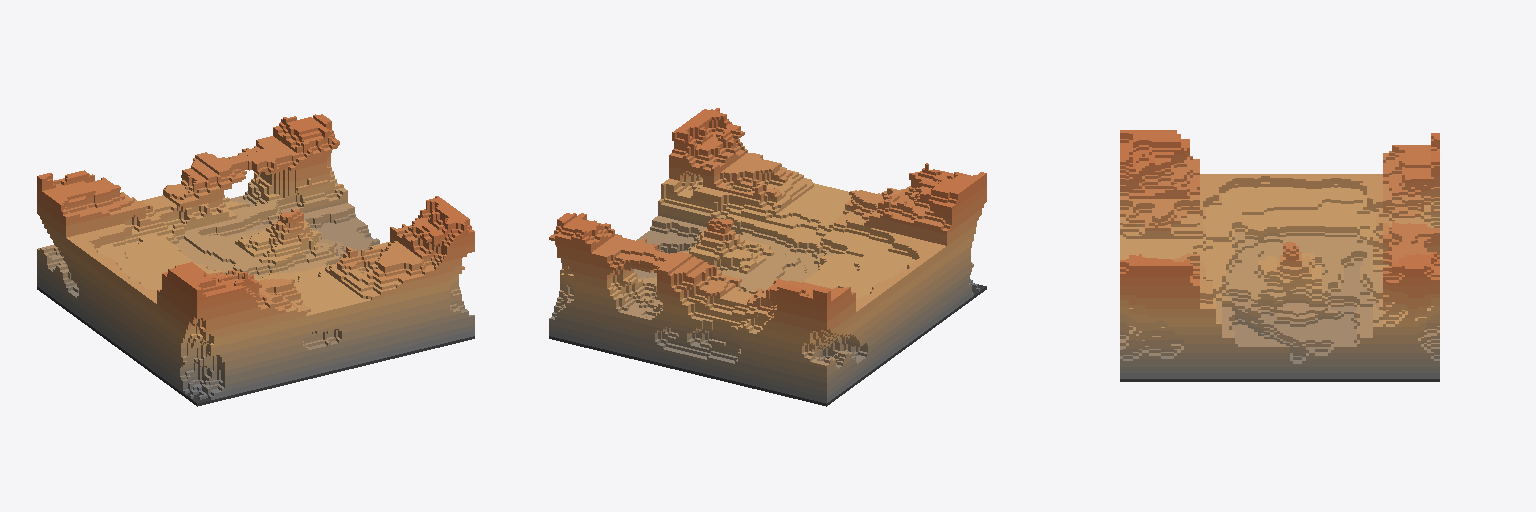
3 renders of one model, left to right at view 1: azimuth 30°, elevation 25°; view 2: azimuth 150°, elevation 25°; view 3: azimuth 270°, elevation 25°, orthographic.
Parts seen in each view (by area): view 1: object 1; view 2: object 1; view 3: object 1.
Part boxes in pixels (left/top/right/bottom): object 1: left=37, top=114, right=474, bottom=406; object 1: left=549, top=108, right=986, bottom=406; object 1: left=1120, top=130, right=1439, bottom=381.
Bounding box in the file's own units: 10 × 4 × 10.
Materials: 1 (1 with a texture image).